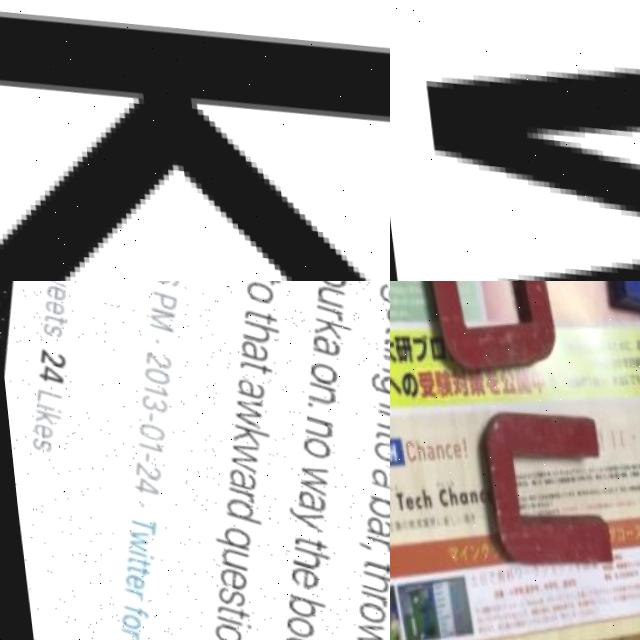0: (139, 359, 170, 382), (133, 415, 164, 438)
1: (136, 374, 166, 393), (131, 432, 160, 448)
2: (140, 343, 171, 366), (127, 455, 158, 477), (35, 344, 65, 366)
3: (135, 387, 166, 410)
4: (31, 360, 64, 386), (127, 471, 155, 493)
K: (0, 0, 390, 281)
O: (414, 281, 553, 378)
U: (470, 409, 603, 564)
W: (406, 0, 640, 281)
